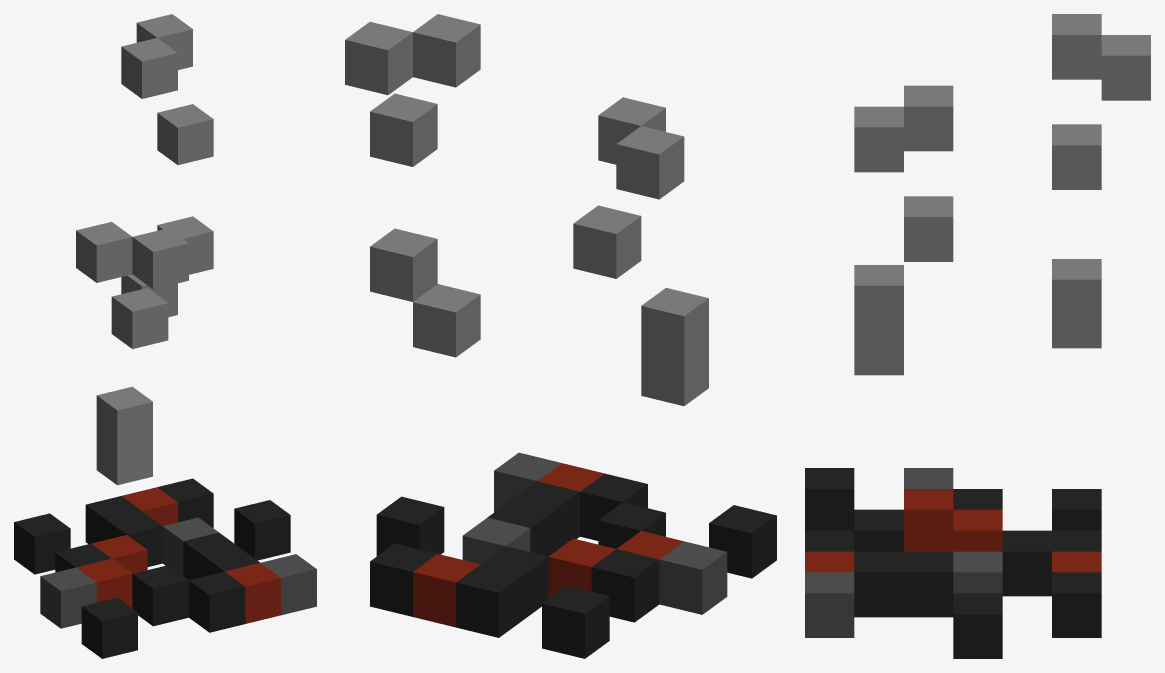
File: Picnic_Set-5.obj
The picture shows the model from 3 angles, left to right: view 1: azimuth 30°, elevation 25°; view 2: azimuth 150°, elevation 25°; view 3: azimuth 270°, elevation 25°; orthographic projection. The views are drawn at different scales.
Bounding box in the file's own units: 0.7 × 1.3 × 0.7.
1 material, 1 textured.
